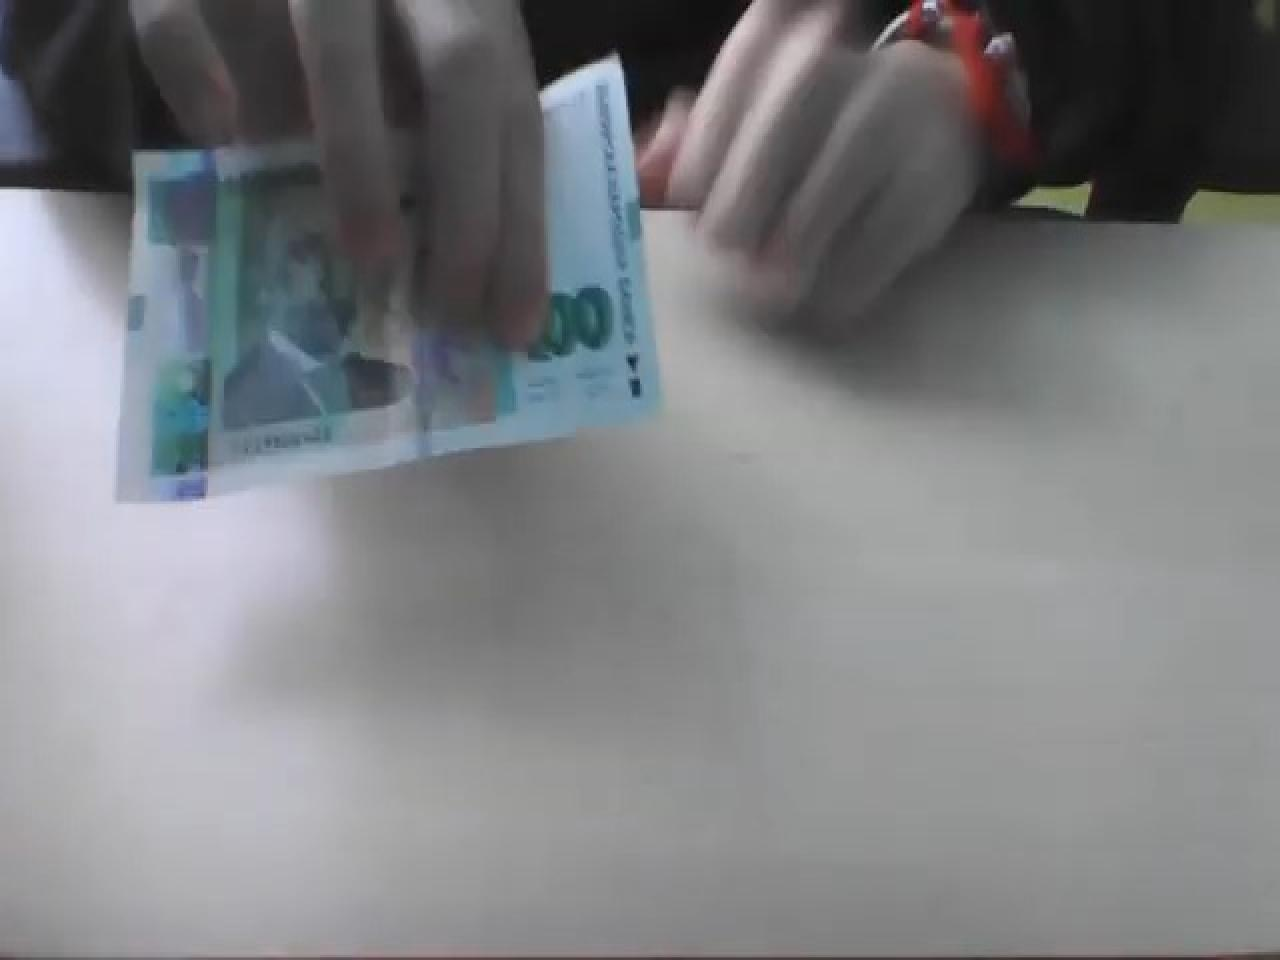100leva: (112, 53, 664, 504)
